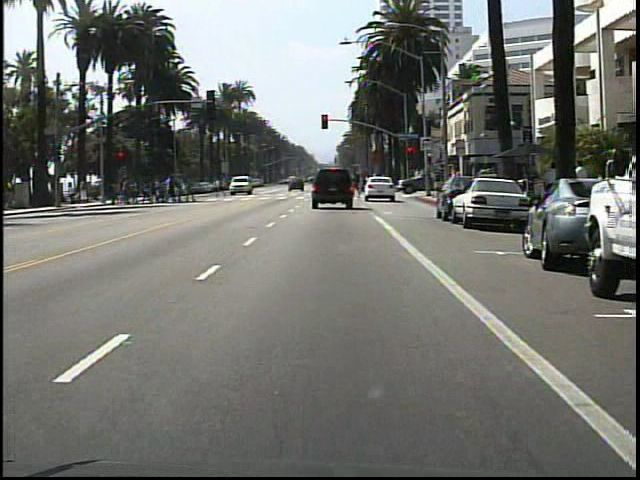person: (542, 156, 564, 216), (569, 155, 589, 212), (212, 172, 231, 201)
